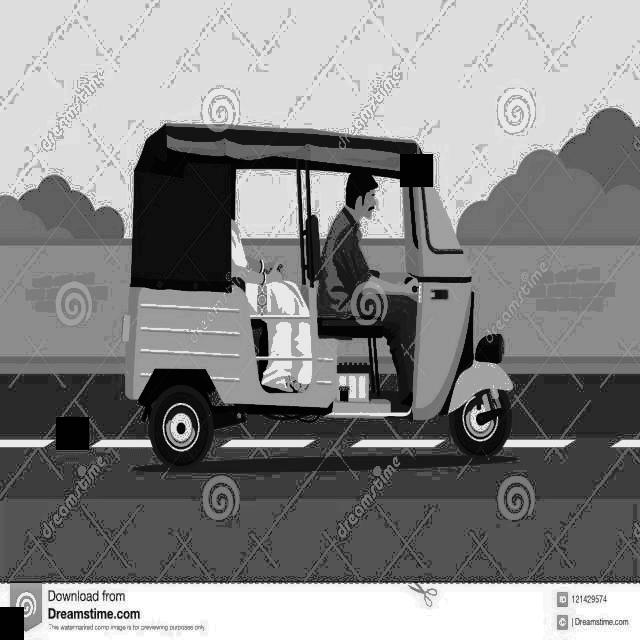Auto-Rickshaw: (107, 94, 523, 514)
